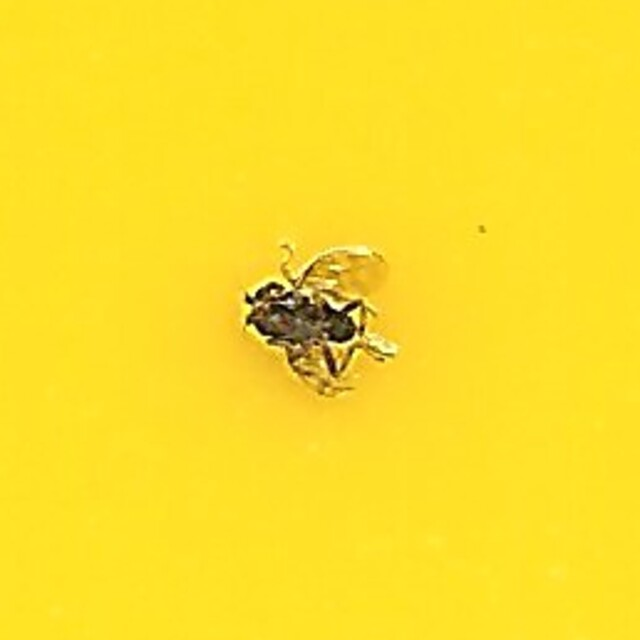Brachycera: (248, 245, 392, 395)
